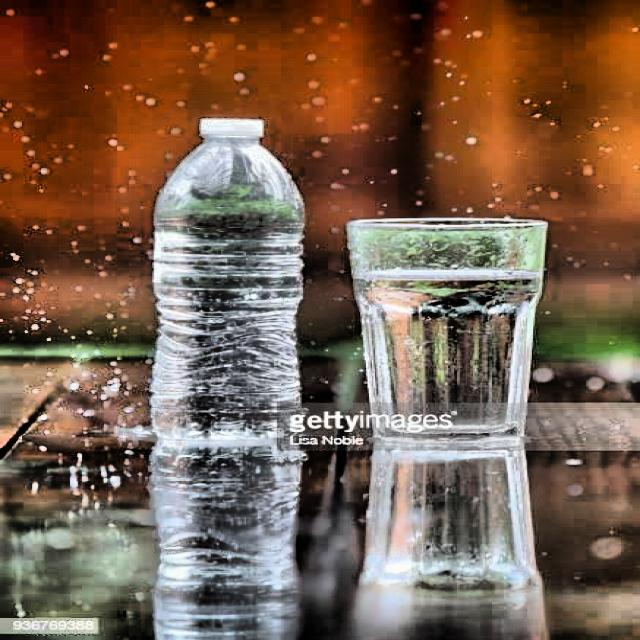Bottles: (133, 112, 326, 457)
